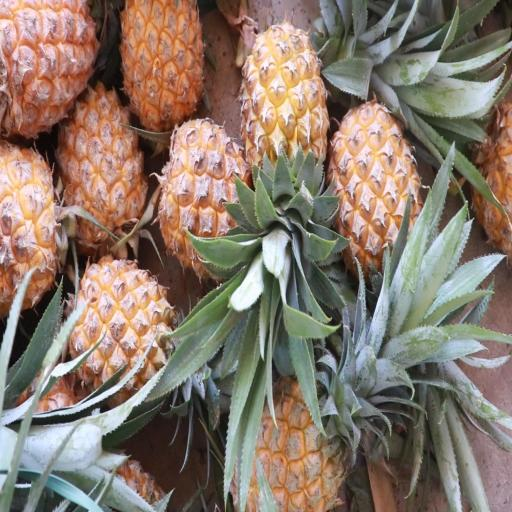Pineapple - v8 v1: (221, 354, 370, 512), (324, 94, 428, 288), (64, 249, 180, 407), (238, 18, 330, 215), (154, 114, 256, 283), (54, 78, 151, 255), (0, 1, 103, 151), (118, 0, 208, 139), (0, 135, 66, 318)
